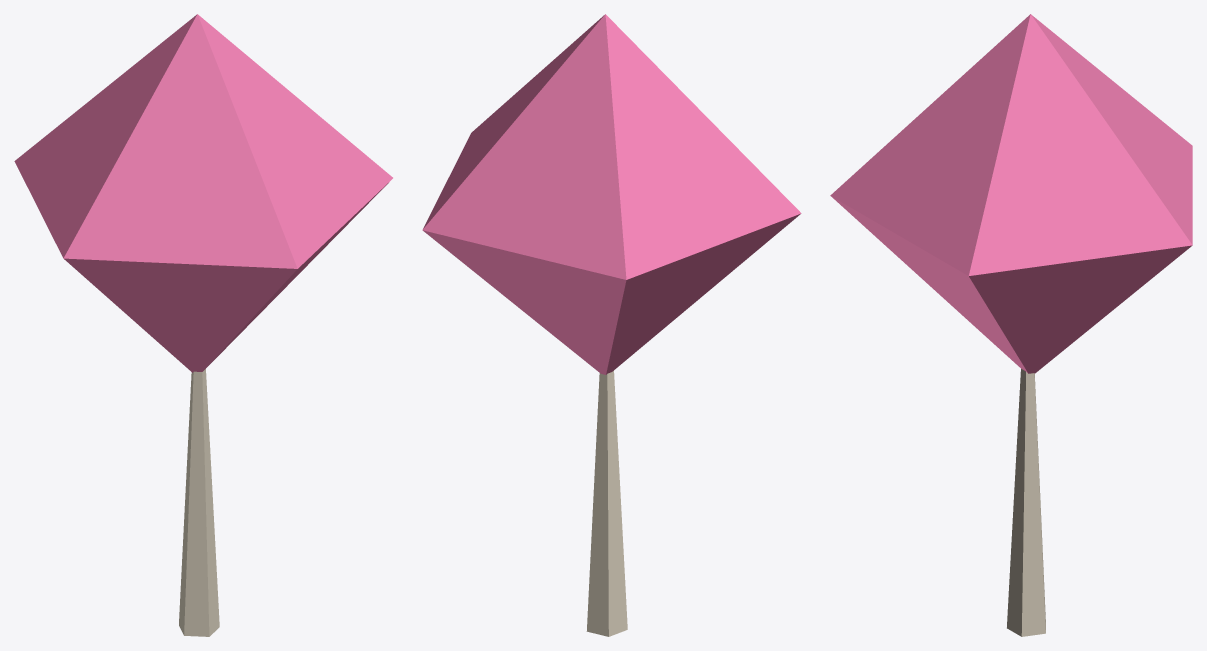
The model's file is land_tree_toy_lollipop_pink_far.glb.
3 views of the same model, side by side, from view 1: azimuth 30°, elevation 25°; view 2: azimuth 150°, elevation 25°; view 3: azimuth 270°, elevation 25° (orthographic).
Size of the model in its own units: 4.18 by 7.44 by 3.98.
